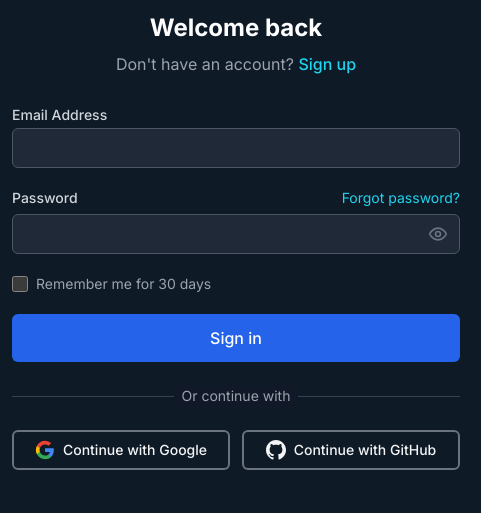
Test: LoginPage › requires password
The image size is (481, 513).
Type "test@example.com" into the field labelled "Email Address" at point(236, 148), box [12, 128, 460, 168]
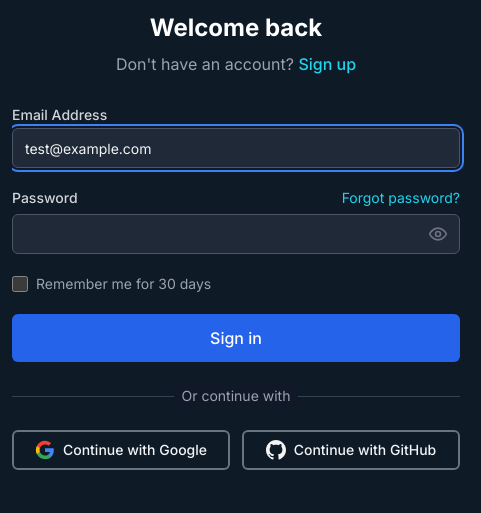
Click the button "Sign in" at point(236, 338), box [12, 314, 460, 362]
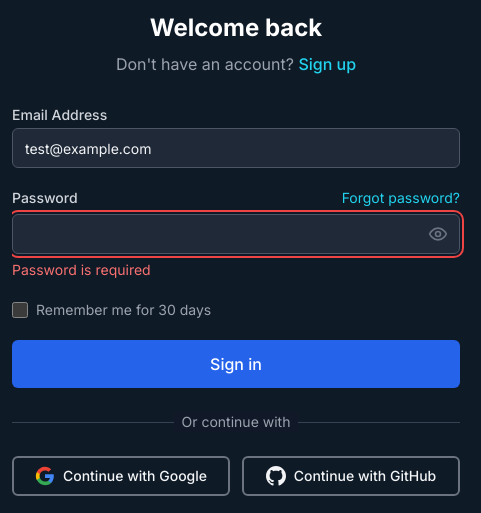
Result: the text "Password is required" is shown at [12, 261, 151, 278]
